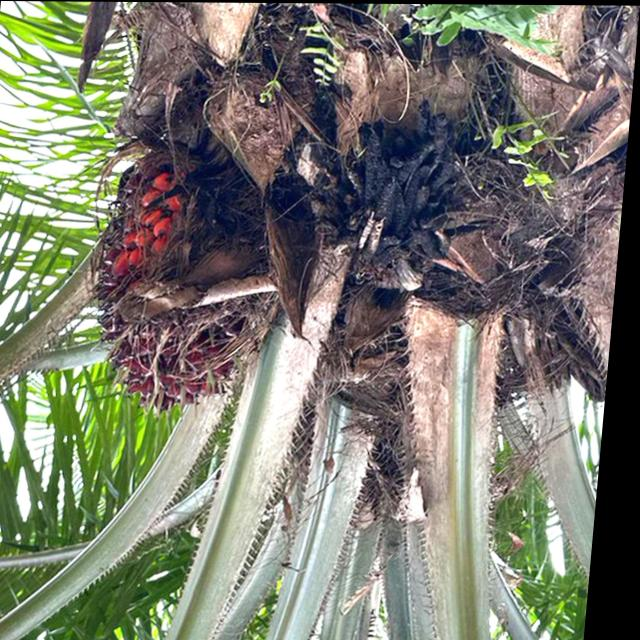ripe: (74, 135, 305, 427)
